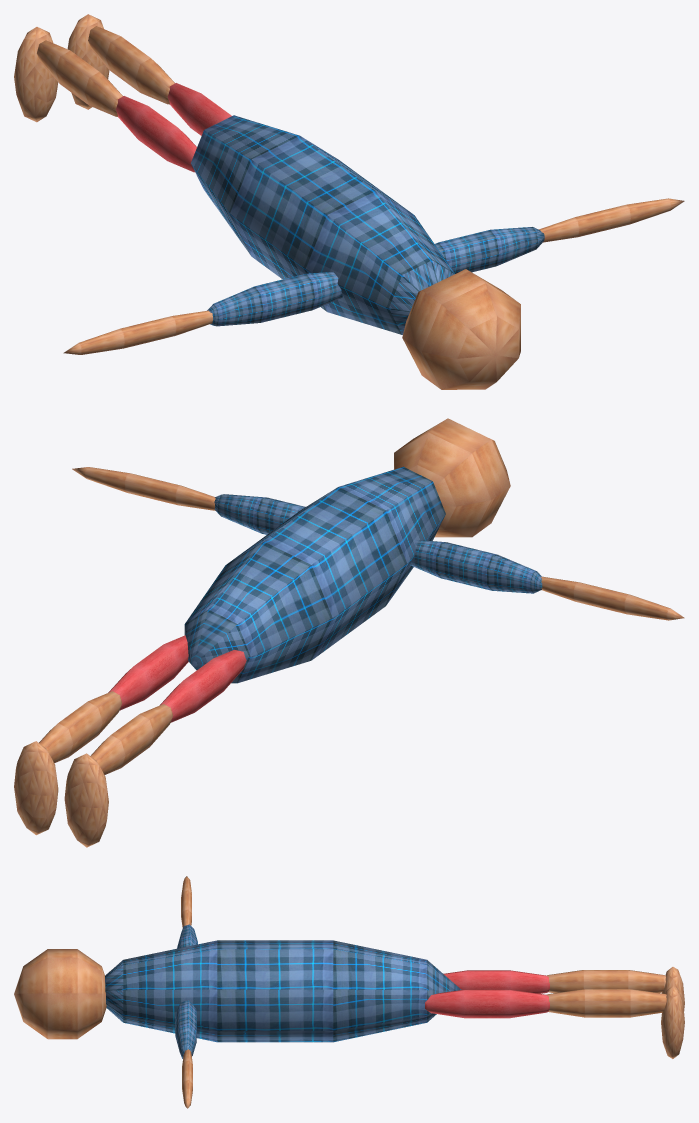
The model's file is person.obj.
The picture shows the model from 3 angles, top to bottom: view 1: azimuth 30°, elevation 25°; view 2: azimuth 150°, elevation 25°; view 3: azimuth 270°, elevation 25°; orthographic projection. The views are drawn at different scales.
Parts seen in each view (by area): view 1: Sphere.001, Sphere.010, Sphere.009, Sphere.007, Sphere.004, Sphere.003, Sphere.002, Icosphere, Sphere.008, Sphere.006, Sphere.005, Icosphere.001; view 2: Sphere.001, Sphere.010, Sphere.009, Icosphere.001, Icosphere, Sphere.004, Sphere.002, Sphere.005, Sphere.003, Sphere.008, Sphere.006, Sphere.007; view 3: Sphere.001, Sphere.010, Sphere.005, Sphere.004, Sphere.003, Sphere.002, Icosphere.001, Sphere.007, Sphere.006, Sphere.008, Icosphere.
Part boxes in pixels (left/top/right/bottom): Sphere.001: left=191, top=115, right=454, bottom=334; Sphere.010: left=402, top=269, right=520, bottom=389; Sphere.009: left=207, top=272, right=342, bottom=326; Sphere.007: left=435, top=227, right=544, bottom=273; Sphere.004: left=88, top=26, right=174, bottom=104; Sphere.003: left=37, top=40, right=122, bottom=116; Sphere.002: left=116, top=96, right=196, bottom=172; Icosphere: left=14, top=27, right=58, bottom=122; Sphere.008: left=63, top=310, right=212, bottom=354; Sphere.006: left=539, top=198, right=684, bottom=242; Sphere.005: left=167, top=83, right=231, bottom=135; Icosphere.001: left=67, top=14, right=109, bottom=109; Sphere.001: left=184, top=466, right=445, bottom=683; Sphere.010: left=394, top=418, right=510, bottom=537; Sphere.009: left=410, top=540, right=542, bottom=593; Icosphere.001: left=14, top=741, right=58, bottom=835; Icosphere: left=64, top=753, right=108, bottom=847; Sphere.004: left=39, top=691, right=121, bottom=762; Sphere.002: left=160, top=649, right=246, bottom=722; Sphere.005: left=108, top=635, right=188, bottom=710; Sphere.003: left=90, top=704, right=172, bottom=774; Sphere.008: left=541, top=576, right=684, bottom=620; Sphere.006: left=72, top=467, right=215, bottom=510; Sphere.007: left=214, top=494, right=305, bottom=534; Sphere.001: left=105, top=940, right=461, bottom=1042; Sphere.010: left=14, top=949, right=106, bottom=1039; Sphere.005: left=425, top=989, right=549, bottom=1018; Sphere.004: left=547, top=989, right=666, bottom=1017; Sphere.003: left=547, top=970, right=665, bottom=993; Sphere.002: left=443, top=970, right=549, bottom=993; Icosphere.001: left=661, top=986, right=684, bottom=1058; Sphere.007: left=175, top=1000, right=196, bottom=1058; Sphere.006: left=182, top=1049, right=192, bottom=1108; Sphere.008: left=181, top=876, right=191, bottom=928; Icosphere: left=662, top=967, right=684, bottom=1010.
Size of the model in its own units: 0.5268 by 0.1121 by 0.6414.
